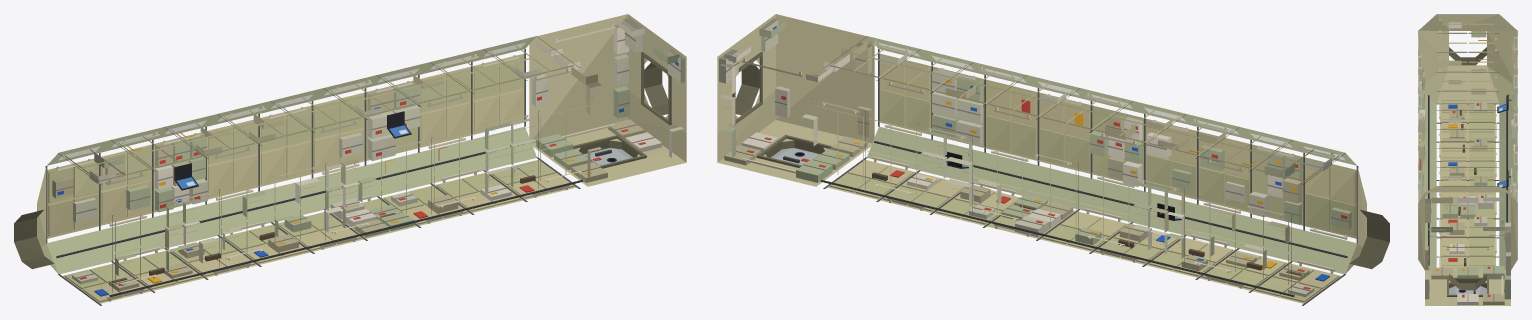
Rendered from m-zarya.glb.
3 renders of one model, left to right at view 1: azimuth 30°, elevation 25°; view 2: azimuth 150°, elevation 25°; view 3: azimuth 270°, elevation 25°, orthographic. The views are drawn at different scales.
Parts seen in each view (by area): view 1: zarya; view 2: zarya; view 3: zarya.
Boxes of the visible parts, left/top/right/bottom form: zarya: left=14, top=14, right=686, bottom=305; zarya: left=717, top=14, right=1389, bottom=305; zarya: left=1418, top=14, right=1517, bottom=305.
Size of the model in its own units: 12.8 by 2.3 by 2.3.
